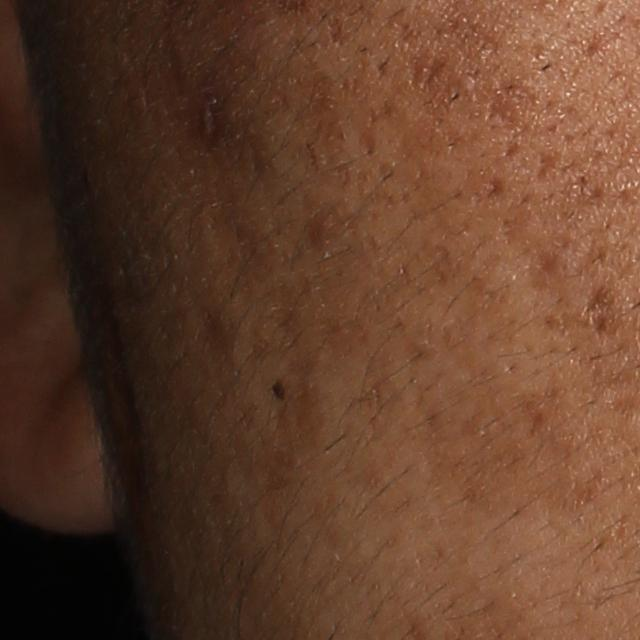atrophic_scar: (484, 77, 538, 129), (524, 241, 572, 294), (406, 52, 450, 89), (486, 176, 506, 204), (499, 141, 518, 160)
nevus: (267, 374, 288, 409)
